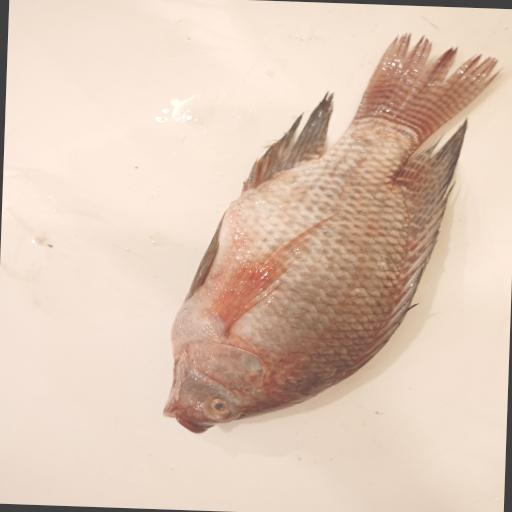Tilapia: (162, 24, 504, 444)
